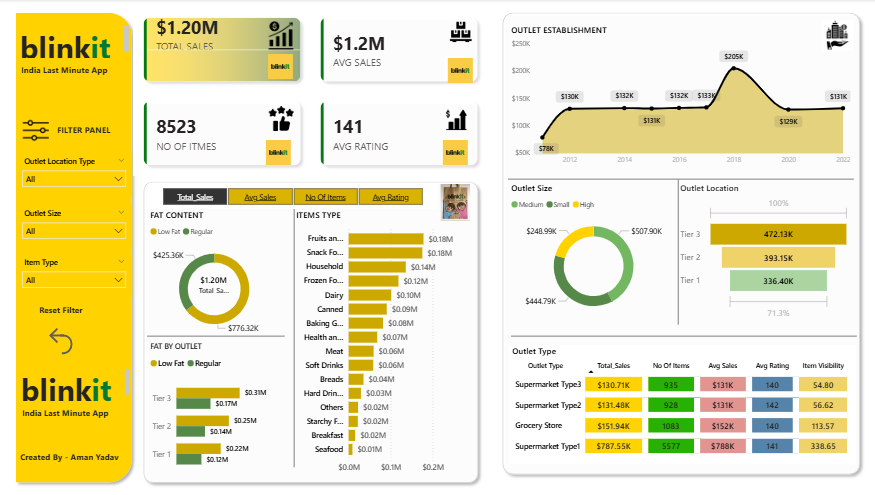

This screenshot's page, from the dashboard's own definition file:
{"tool":"powerbi","page":{"name":"Page 1","canvas":[1400,800],"ordinal":0},"visuals":[{"type":"shape","box":[16.5,12.9,203.9,769.8],"z":0},{"type":"textbox","box":[27.6,38.6,183.7,60.6],"z":1000},{"type":"textbox","box":[29.4,99.2,183.7,29.4],"z":2000},{"type":"cardVisual","fields":{"Data":["BlinkIT Grocery Data.total_sales","BlinkIT Grocery Data.avg sales","BlinkIT Grocery Data.no of items","BlinkIT Grocery Data.avg rating"]},"box":[213.1,12.9,569.6,270.1],"z":3000},{"type":"image","box":[402.4,34.9,95.5,45.9],"z":4000},{"type":"image","box":[700,176.4,58.8,34.9],"z":5000},{"type":"image","box":[700,34.9,73.5,34.9],"z":6000},{"type":"image","box":[415.2,170.9,68,40.4],"z":7000},{"type":"shape","box":[220.5,282.9,553,499.7],"z":8000},{"type":"donutChart","title":"FAT CONTENT","fields":{"Y":["BlinkIT Grocery Data.Total_Sales"],"Category":["BlinkIT Grocery Data.Item Fat Content"]},"box":[235.2,336.2,215,211.3],"z":9000},{"type":"slicer","fields":{"Values":["Parameter.Parameter"]},"box":[235.2,295.8,465,40],"z":10000},{"type":"cardVisual","fields":{"Data":["BlinkIT Grocery Data.Total_Sales"]},"box":[288.5,426.2,108.4,62.5],"z":11000},{"type":"clusteredBarChart","title":"FAT BY OUTLET","fields":{"Y":["BlinkIT Grocery Data.Total_Sales"],"Category":["BlinkIT Grocery Data.Outlet Location Type"],"Series":["BlinkIT Grocery Data.Item Fat Content"]},"box":[235.2,547.5,220.5,222.3],"z":12000},{"type":"shape","box":[235.2,531,220.5,16.5],"z":13000},{"type":"shape","box":[455.6,336.2,29.4,413.4],"z":14000},{"type":"clusteredBarChart","title":"ITEMS TYPE","fields":{"Y":["BlinkIT Grocery Data.Total_Sales"],"Category":["BlinkIT Grocery Data.Item Type"]},"box":[468.5,336.2,303.1,431.8],"z":15000},{"type":"shape","box":[795.5,12.9,589.8,757],"z":16000},{"type":"lineChart","title":"OUTLET ESTABLISHMENT","fields":{"Category":["BlinkIT Grocery Data.Outlet Establishment Year"],"Y":["BlinkIT Grocery Data.Total_Sales"]},"box":[812.1,40.4,553,235.2],"z":17000},{"type":"shape","box":[812.1,279.3,553,16.5],"z":18000},{"type":"donutChart","title":"Outlet Size","fields":{"Y":["BlinkIT Grocery Data.Total_Sales"],"Category":["BlinkIT Grocery Data.Outlet Size"]},"box":[812.1,292.1,274,225],"z":19000},{"type":"shape","box":[1074.8,288.5,20.2,233.3],"z":20000},{"type":"funnel","title":"Outlet Location","fields":{"Y":["Sum(BlinkIT Grocery Data.Sales)"],"Category":["BlinkIT Grocery Data.Outlet Location Type"]},"box":[1084,292.1,281.1,224.1],"z":21000},{"type":"shape","box":[817.6,531,553,16.5],"z":22000},{"type":"pivotTable","title":"Outlet Type","fields":{"Rows":["BlinkIT Grocery Data.Outlet Type"],"Values":["BlinkIT Grocery Data.Total_Sales","BlinkIT Grocery Data.No Of Items","BlinkIT Grocery Data.Avg Sales","BlinkIT Grocery Data.Avg Rating","Sum(BlinkIT Grocery Data.Item Visibility)"]},"box":[813.9,553,554.9,191.1],"z":23000},{"type":"slicer","fields":{"Values":["BlinkIT Grocery Data.Outlet Location Type"]},"box":[25.7,246.2,185.6,69.8],"z":24000},{"type":"slicer","fields":{"Values":["BlinkIT Grocery Data.Outlet Size"]},"box":[25.7,328.9,185.6,69.8],"z":25000},{"type":"slicer","fields":{"Values":["BlinkIT Grocery Data.Item Type"]},"box":[25.7,407.9,185.6,69.8],"z":26000},{"type":"textbox","box":[86.4,194.8,124.9,33.1],"z":27000},{"type":"image","box":[29.4,187.4,57,45.9],"z":28000},{"type":"image","box":[422.6,226,45.9,40.4],"z":29000},{"type":"image","box":[705.5,226,45.9,40.4],"z":30000},{"type":"image","box":[712.9,93.7,45.9,40.4],"z":31000},{"type":"image","box":[426.2,88.2,45.9,40.4],"z":32000},{"type":"image","box":[703.7,295.8,49.6,58.8],"z":33000},{"type":"image","box":[1315.5,29.4,49.6,58.8],"z":34000},{"type":"actionButton","box":[70.4,520,78.4,54.4],"z":35000},{"type":"textbox","box":[57.6,483.2,139.2,38.4],"z":36000},{"type":"textbox","box":[28.8,587.2,184,60.8],"z":37000},{"type":"textbox","box":[29.9,648.6,183.2,29.9],"z":38000},{"type":"textbox","box":[27.2,718.4,182.4,30.4],"z":39000}]}

Visuals, with their boxes in screenshot pixels (x1, y1, x2, y2), scaled from the page's 1400x800 canvas onto the 875x495 screenshot:
shape: left=10, top=8, right=138, bottom=484
textbox: left=17, top=24, right=132, bottom=61
textbox: left=18, top=61, right=133, bottom=80
cardVisual - BlinkIT Grocery Data.total_sales x BlinkIT Grocery Data.avg sales: left=133, top=8, right=489, bottom=175
image: left=252, top=22, right=311, bottom=50
image: left=438, top=109, right=474, bottom=131
image: left=438, top=22, right=483, bottom=43
image: left=260, top=106, right=302, bottom=131
shape: left=138, top=175, right=483, bottom=484
"FAT CONTENT" donutChart: left=147, top=208, right=281, bottom=339
slicer - Parameter.Parameter: left=147, top=183, right=438, bottom=208
cardVisual - BlinkIT Grocery Data.Total_Sales: left=180, top=264, right=248, bottom=302
"FAT BY OUTLET" clusteredBarChart: left=147, top=339, right=285, bottom=476
shape: left=147, top=329, right=285, bottom=339
shape: left=285, top=208, right=303, bottom=464
"ITEMS TYPE" clusteredBarChart: left=293, top=208, right=482, bottom=475
shape: left=497, top=8, right=866, bottom=476
"OUTLET ESTABLISHMENT" lineChart: left=508, top=25, right=853, bottom=171
shape: left=508, top=173, right=853, bottom=183
"Outlet Size" donutChart: left=508, top=181, right=679, bottom=320
shape: left=672, top=179, right=684, bottom=323
"Outlet Location" funnel: left=678, top=181, right=853, bottom=319
shape: left=511, top=329, right=857, bottom=339
"Outlet Type" pivotTable: left=509, top=342, right=856, bottom=460
slicer - BlinkIT Grocery Data.Outlet Location Type: left=16, top=152, right=132, bottom=196
slicer - BlinkIT Grocery Data.Outlet Size: left=16, top=204, right=132, bottom=247
slicer - BlinkIT Grocery Data.Item Type: left=16, top=252, right=132, bottom=296
textbox: left=54, top=121, right=132, bottom=141
image: left=18, top=116, right=54, bottom=144
image: left=264, top=140, right=293, bottom=165
image: left=441, top=140, right=470, bottom=165
image: left=446, top=58, right=474, bottom=83
image: left=266, top=55, right=295, bottom=80
image: left=440, top=183, right=471, bottom=219
image: left=822, top=18, right=853, bottom=55
actionButton: left=44, top=322, right=93, bottom=355
textbox: left=36, top=299, right=123, bottom=323
textbox: left=18, top=363, right=133, bottom=401
textbox: left=19, top=401, right=133, bottom=420
textbox: left=17, top=445, right=131, bottom=463
